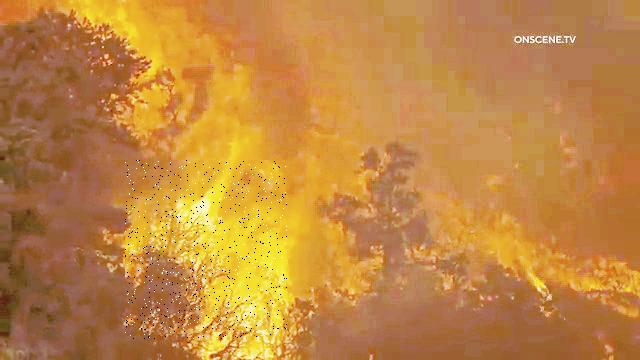fire: (125, 161, 287, 340)
